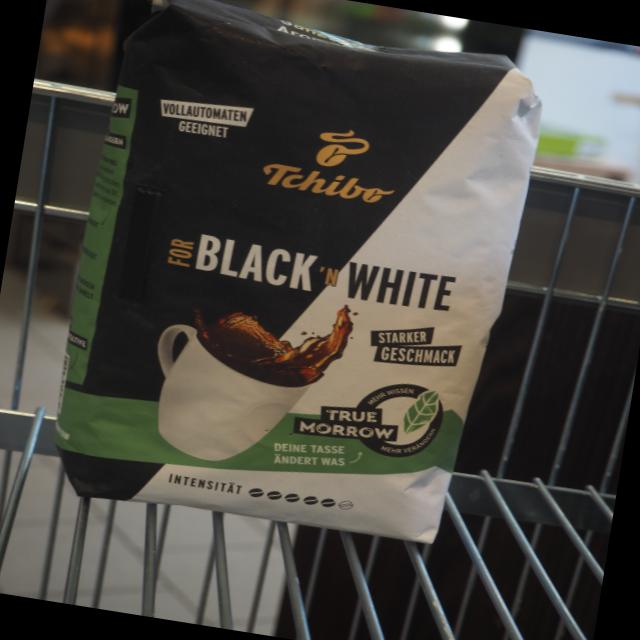BW Bohne: (26, 0, 569, 571)
